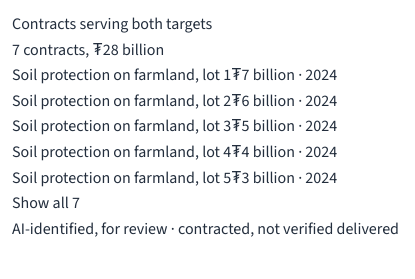
it: BothContracts › shows the five largest first and the rest on request
Expected: the number of links is 5, x1=12 y1=64 x2=337 y2=86; x1=12 y1=90 x2=337 y2=112; x1=12 y1=115 x2=337 y2=137; x1=12 y1=141 x2=337 y2=163; x1=12 y1=167 x2=337 y2=189
Click the button "Show all 7". click: x=46, y=204
box: x1=12 y1=191 x2=80 y2=217
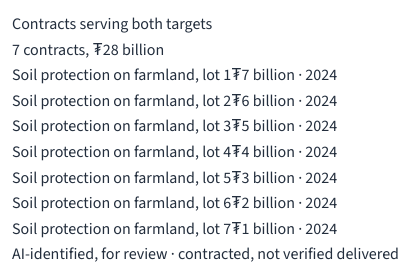
Expected: the number of links is 7
